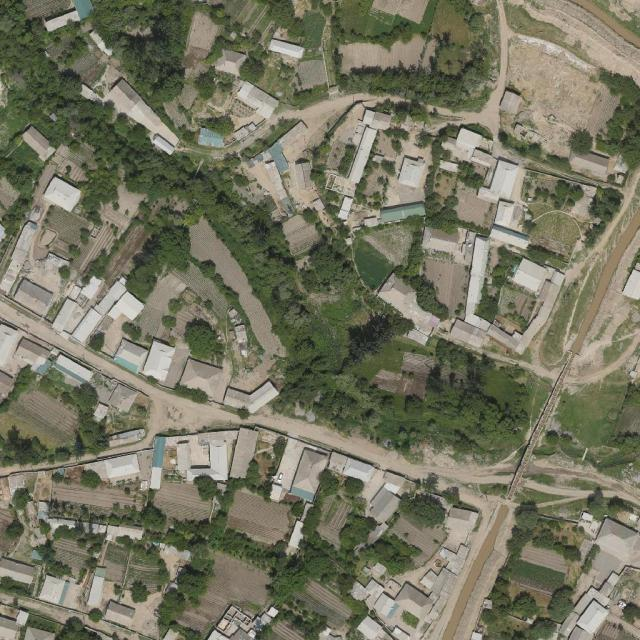agricultural_land: (506, 0, 640, 156), (177, 216, 300, 364), (176, 548, 279, 640), (176, 549, 278, 640), (495, 0, 598, 72), (7, 380, 86, 450), (221, 486, 299, 552), (133, 268, 189, 346), (338, 34, 428, 76), (292, 575, 354, 633), (0, 219, 41, 295), (69, 222, 123, 279), (51, 481, 143, 512), (125, 542, 175, 596), (311, 491, 356, 549), (153, 479, 213, 522), (39, 204, 91, 249), (278, 210, 324, 257), (184, 11, 225, 55), (69, 48, 109, 88), (99, 541, 130, 586), (611, 564, 640, 607), (294, 56, 329, 90), (161, 97, 192, 135), (595, 621, 640, 640), (175, 82, 201, 111), (592, 312, 615, 343), (627, 614, 640, 625)
building: (484, 254, 568, 358), (101, 77, 188, 157), (370, 269, 446, 350), (421, 540, 470, 629), (464, 236, 500, 331), (266, 436, 306, 505), (177, 356, 233, 404), (418, 220, 477, 265), (221, 379, 281, 418), (436, 503, 480, 556), (290, 446, 330, 503), (11, 334, 56, 377), (233, 80, 279, 121), (10, 277, 56, 318), (347, 125, 378, 184), (228, 426, 260, 482), (393, 581, 436, 622), (363, 485, 404, 527), (510, 255, 551, 296), (42, 175, 83, 214), (142, 339, 177, 383), (108, 291, 146, 330), (111, 338, 150, 375), (20, 124, 57, 162), (93, 280, 129, 318), (575, 599, 611, 637), (575, 599, 611, 637), (70, 307, 104, 345), (489, 160, 520, 200), (379, 200, 426, 224), (369, 590, 402, 624), (441, 540, 472, 576), (50, 297, 80, 334), (106, 382, 139, 415), (396, 153, 426, 189), (86, 564, 110, 609), (493, 200, 526, 232), (278, 120, 311, 151), (103, 600, 138, 629), (149, 435, 167, 490), (43, 9, 82, 34), (38, 574, 68, 606), (104, 454, 140, 480), (214, 49, 247, 77), (265, 141, 293, 174), (342, 457, 375, 485), (573, 510, 604, 539), (267, 37, 306, 60), (87, 29, 114, 59), (454, 127, 485, 153), (0, 324, 19, 366), (209, 441, 228, 480), (356, 614, 384, 640), (287, 519, 309, 551), (80, 274, 104, 301), (197, 127, 225, 148), (326, 451, 348, 475), (336, 195, 355, 221), (419, 569, 440, 591), (152, 436, 166, 469), (369, 112, 392, 132), (0, 616, 19, 640), (568, 626, 594, 639), (604, 570, 622, 588), (270, 482, 284, 502), (14, 609, 29, 626), (362, 109, 376, 127), (227, 312, 235, 342), (382, 481, 400, 494), (266, 606, 280, 619), (627, 513, 640, 526), (470, 631, 483, 640)
dryland: (0, 410, 110, 472), (245, 150, 306, 218), (74, 384, 98, 412), (558, 609, 581, 637)
greenland: (70, 113, 429, 436), (230, 178, 435, 451), (311, 305, 546, 490), (334, 31, 504, 134), (110, 214, 206, 303), (549, 353, 633, 452), (113, 131, 202, 209), (163, 512, 269, 575), (350, 325, 435, 390), (290, 528, 366, 596), (60, 380, 119, 458), (356, 524, 423, 583), (371, 346, 438, 399), (175, 313, 232, 375), (509, 549, 570, 602), (171, 546, 225, 605), (262, 554, 316, 607), (331, 17, 414, 50), (335, 509, 379, 557), (398, 493, 446, 527), (152, 68, 190, 106), (333, 0, 372, 37), (285, 83, 330, 112), (300, 546, 335, 581), (43, 30, 78, 62), (191, 67, 223, 101), (502, 526, 533, 561), (302, 11, 328, 49), (237, 55, 268, 86), (511, 504, 542, 535), (206, 0, 234, 34), (488, 573, 511, 609), (396, 0, 429, 25), (531, 525, 559, 552), (477, 605, 502, 629), (622, 602, 640, 624), (460, 3, 478, 21)
unmetalled_road: (0, 293, 156, 404), (254, 402, 429, 482), (502, 351, 580, 502), (564, 205, 640, 355), (144, 386, 243, 443), (528, 453, 640, 503), (421, 465, 513, 483), (521, 478, 586, 501), (140, 423, 160, 450)
